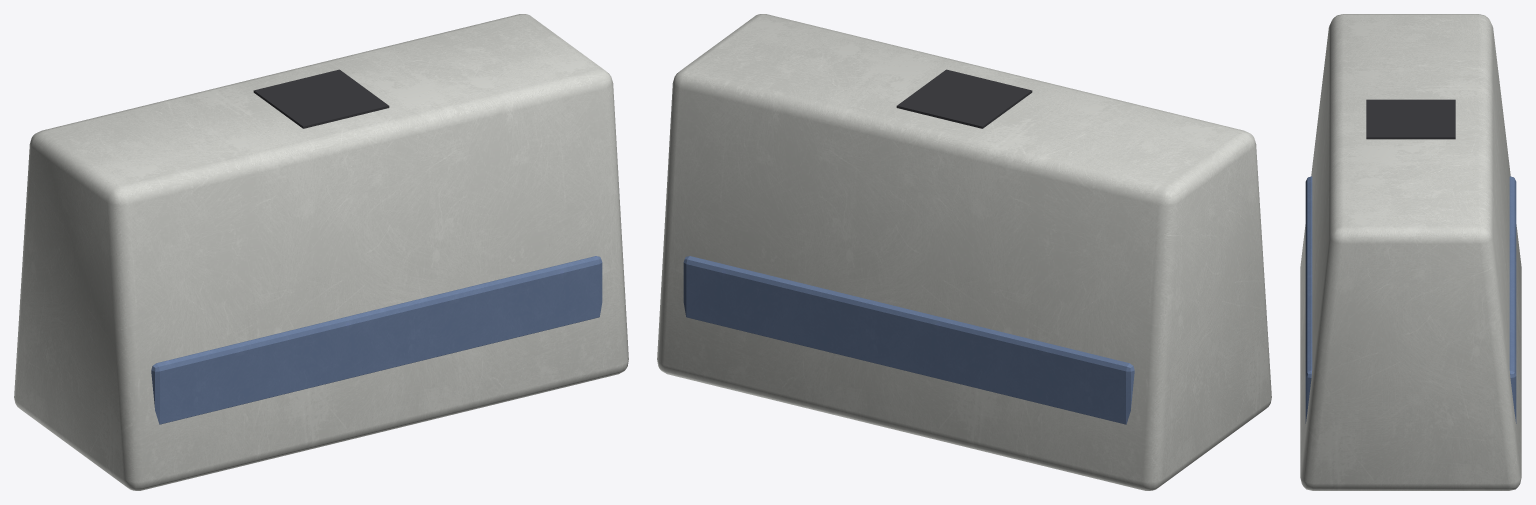
The model's file is fp_tuffblock.glb.
3 renders of one model, left to right at view 1: azimuth 30°, elevation 25°; view 2: azimuth 150°, elevation 25°; view 3: azimuth 270°, elevation 25°, orthographic. The views are drawn at different scales.
Visible parts, largest first — view 1: fp_tuffblock; view 2: fp_tuffblock; view 3: fp_tuffblock.
Boxes of the visible parts, x1=… form: fp_tuffblock: x1=14, y1=14, x2=628, y2=490; fp_tuffblock: x1=657, y1=14, x2=1271, y2=490; fp_tuffblock: x1=1300, y1=14, x2=1521, y2=490.
Bounding box in the file's own units: 4.7 × 2.62 × 1.97.
Materials: 3 (2 with a texture image).
